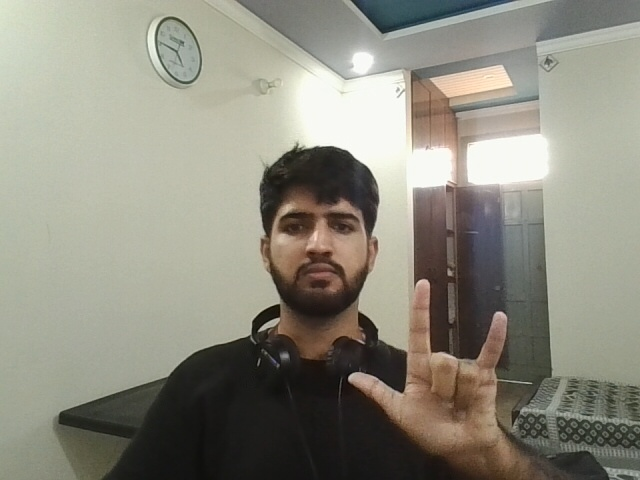I Love You: (343, 260, 529, 467)
